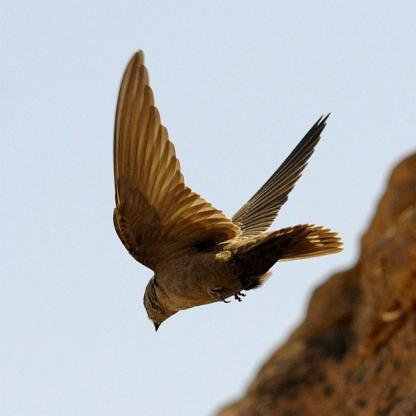Burung: (112, 50, 343, 331)
